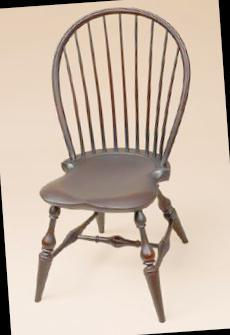Silla: (16, 2, 211, 334)
